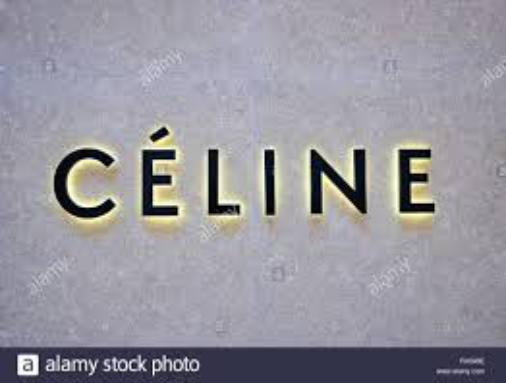CELINE: (52, 121, 442, 233)
